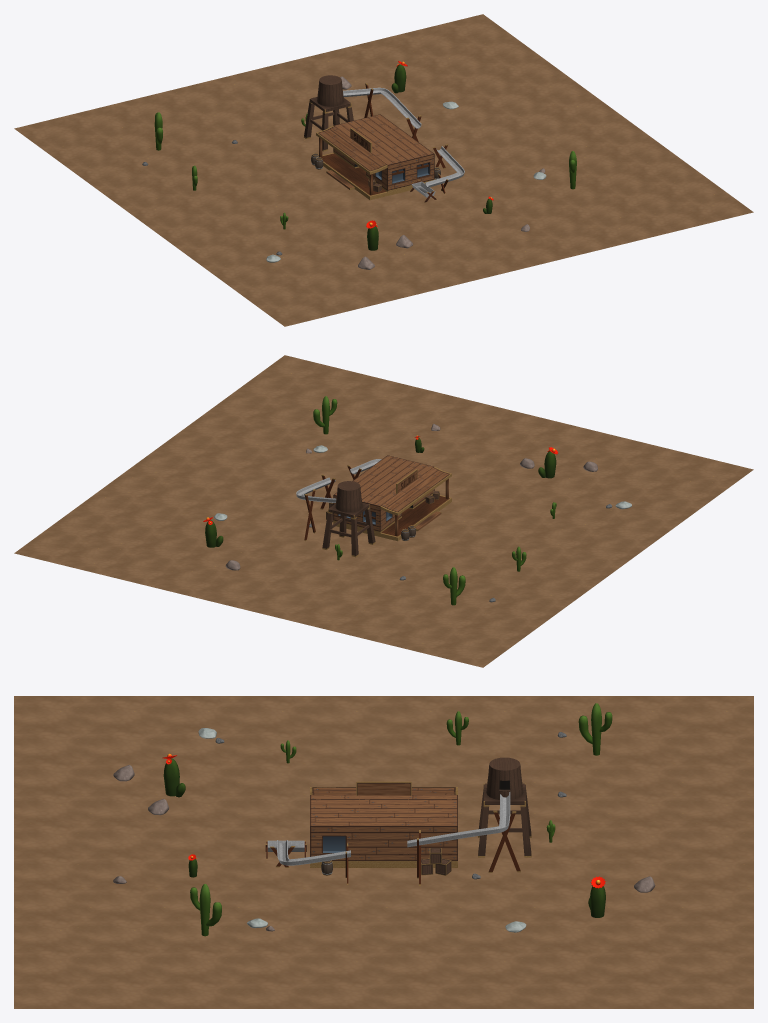
Rendered from Saloon_level.fbx.
3 views of the same model, one above another, from view 1: azimuth 30°, elevation 25°; view 2: azimuth 150°, elevation 25°; view 3: azimuth 270°, elevation 25° (orthographic). The views are drawn at different scales.
Parts seen in each view (by area): view 1: Saloon; view 2: Saloon; view 3: Saloon.
Boxes of the visible parts, x1,y1,x2,y2 form: Saloon: [14, 14, 753, 326]; Saloon: [14, 355, 753, 667]; Saloon: [14, 696, 753, 1008].
Size of the model in its own units: 40 by 5.03 by 40.
